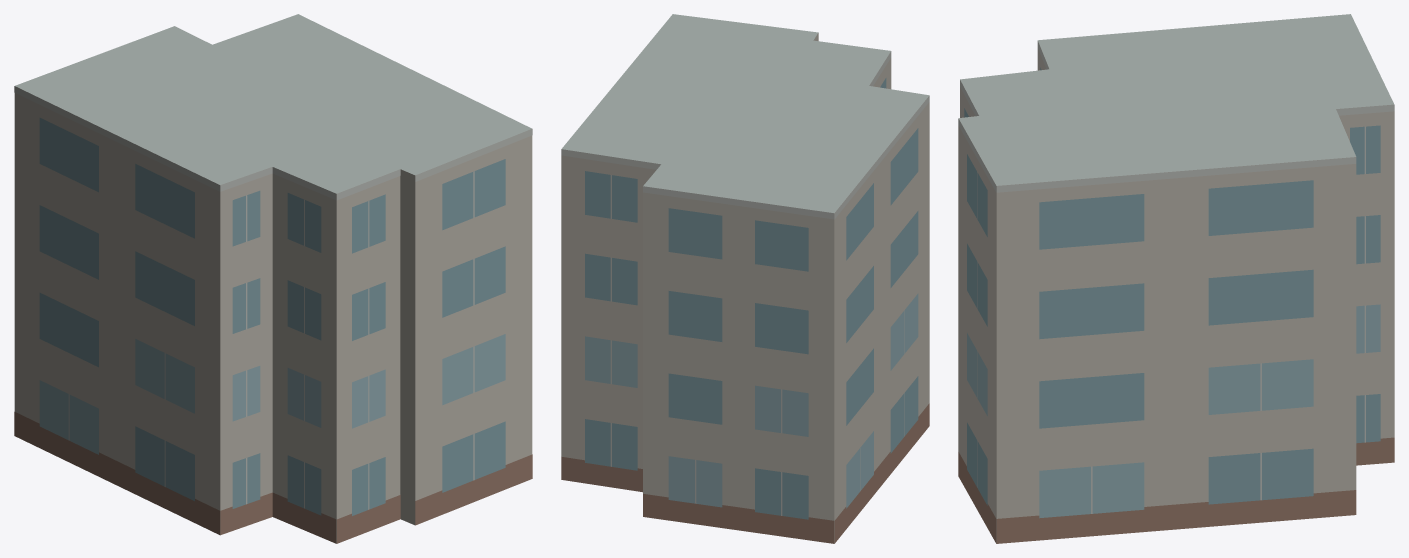
File: survey-upis-32619836.glb
The picture shows the model from 3 angles, left to right: view 1: azimuth 30°, elevation 25°; view 2: azimuth 150°, elevation 25°; view 3: azimuth 270°, elevation 25°; orthographic projection. The views are drawn at different scales.
Parts seen in each view (by area): view 1: survey-upis-32619836.tmp; view 2: survey-upis-32619836.tmp; view 3: survey-upis-32619836.tmp.
Part boxes in pixels (x1,y1,x2,y2): survey-upis-32619836.tmp: [14, 14, 532, 543]; survey-upis-32619836.tmp: [561, 14, 929, 543]; survey-upis-32619836.tmp: [958, 14, 1394, 543].
Bounding box in the file's own units: 13.19 × 12.8 × 14.14.
